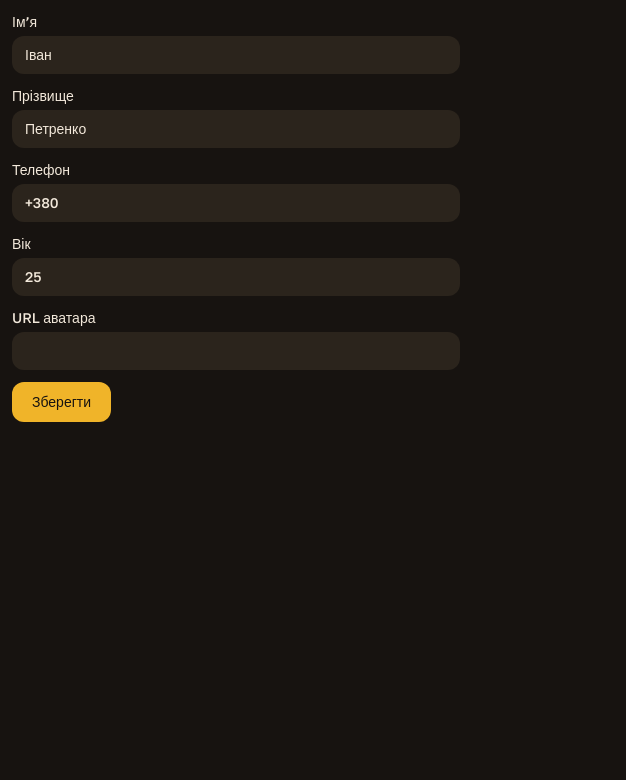
Test: ProfileForm › сабміт → PATCH /me/profile з лише заповненими полями + toast
Replace the text in the field labelled "Імʼя" with "Олег" at coordinates (236, 55), box [12,36,460,74]
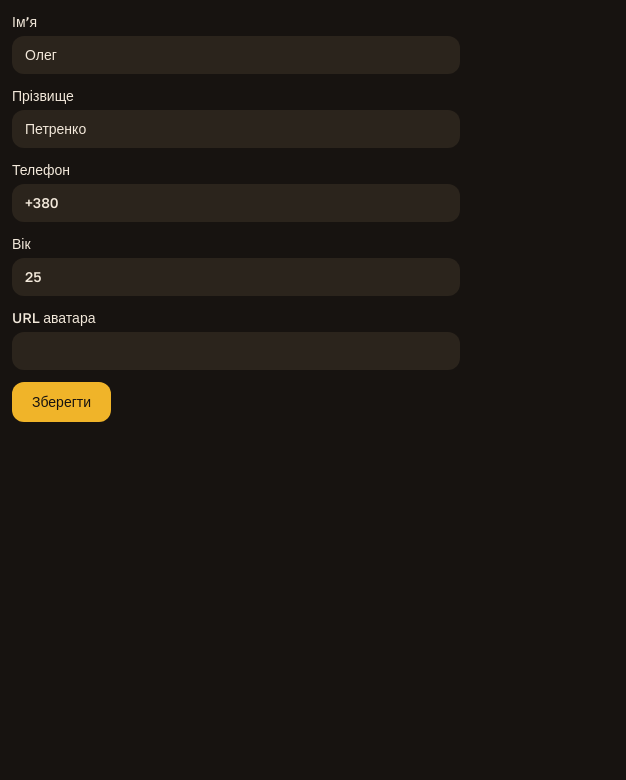
Click the button "Зберегти" at coordinates (62, 402), box [12,382,111,422]
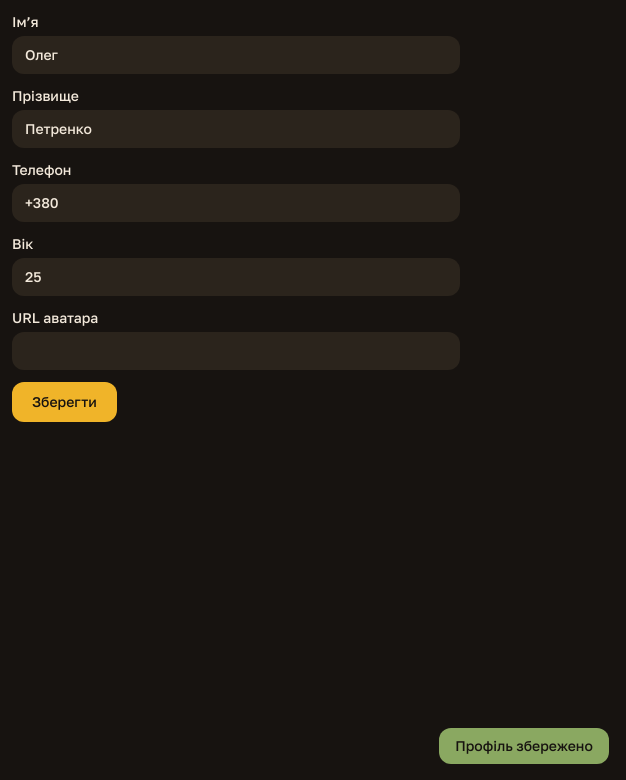
Check: the message shows "збережено", box [455,737,593,754]
